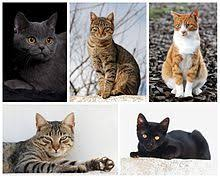cat: (86, 8, 118, 45)
